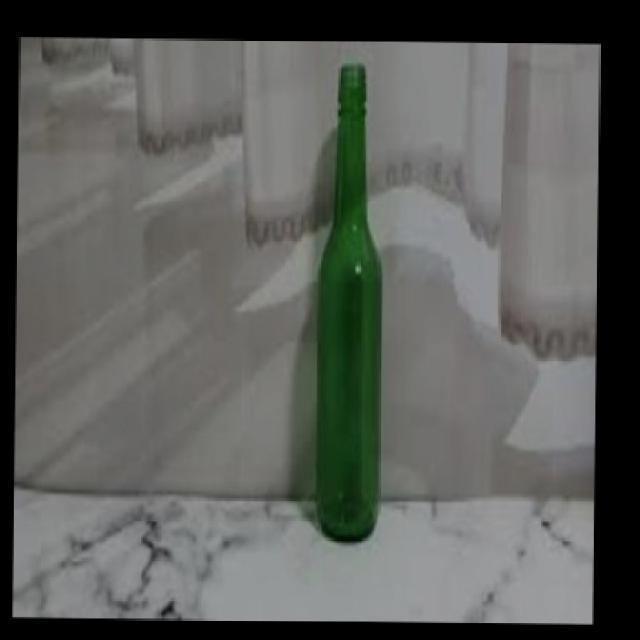Glass: (316, 61, 386, 543)
